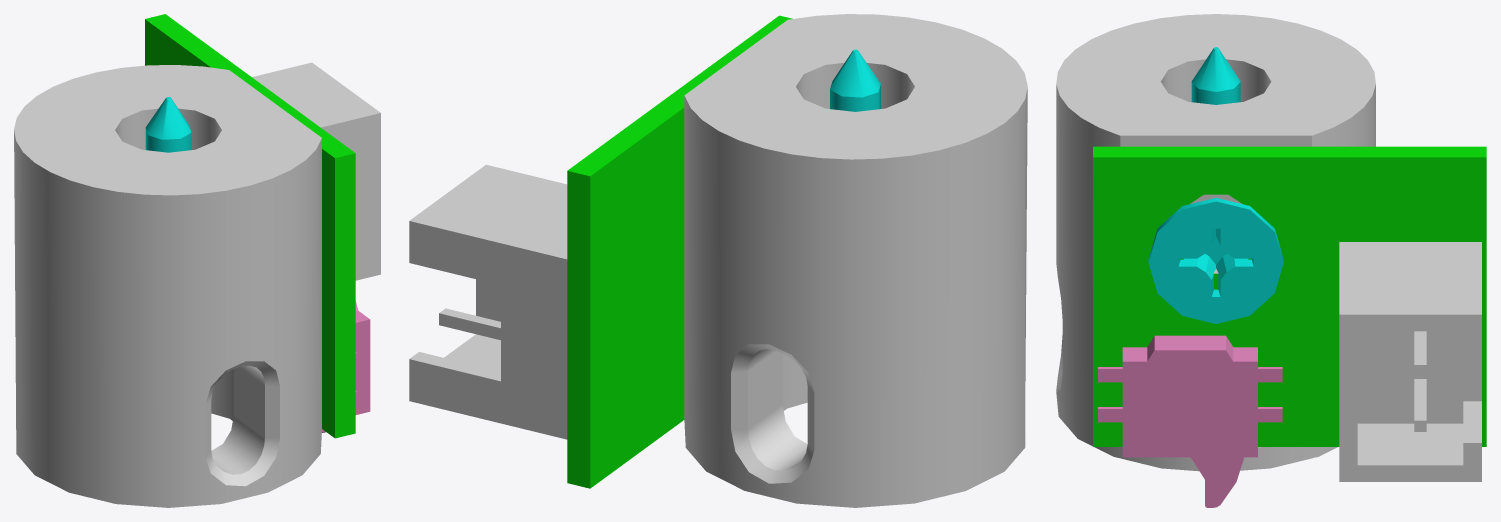
File: handrot.dae
The picture shows the model from 3 angles, left to right: view 1: azimuth 30°, elevation 25°; view 2: azimuth 150°, elevation 25°; view 3: azimuth 270°, elevation 25°; orthographic projection. The views are drawn at different scales.
Visible parts, largest first — view 1: __001; view 2: __001; view 3: __001.
Boxes of the visible parts, x1,y1,x2,y2 form: __001: (14, 14, 380, 507); __001: (409, 14, 1027, 507); __001: (1056, 14, 1486, 507).
Size of the model in its own units: 19.7 by 17.5 by 17.1.
